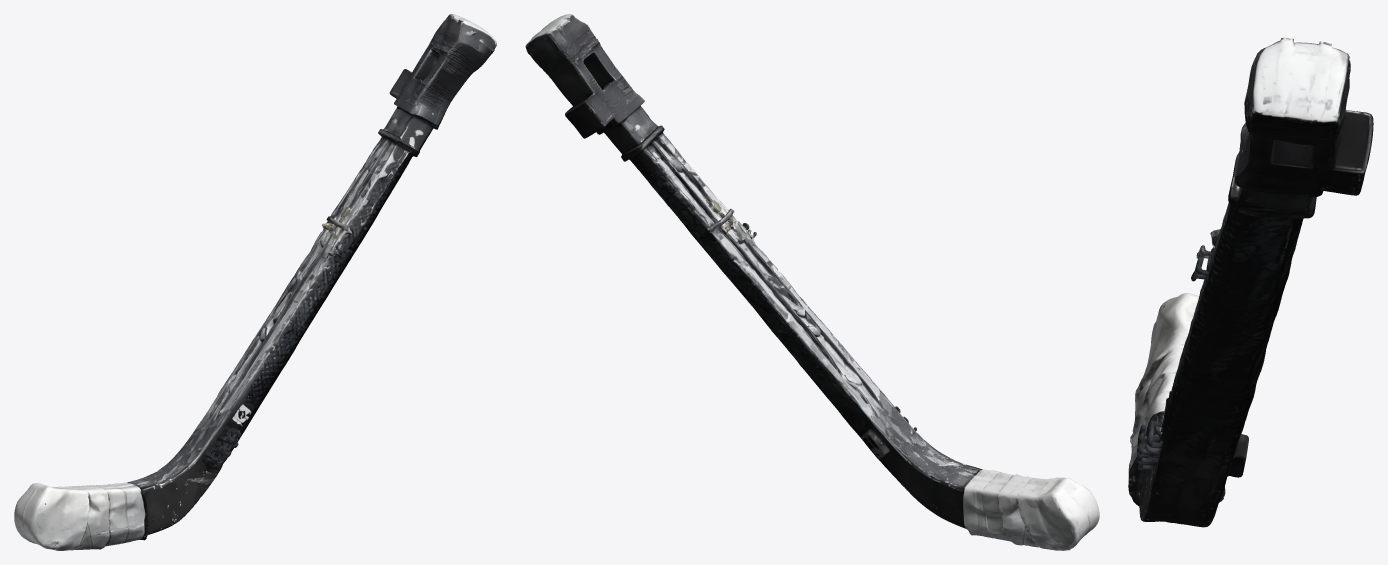
Rendered from rn_hockey.glb.
3 views of the same model, side by side, from view 1: azimuth 30°, elevation 25°; view 2: azimuth 150°, elevation 25°; view 3: azimuth 270°, elevation 25° (orthographic). The views are drawn at different scales.
Parts seen in each view (by area): view 1: tripo_node_46d84ef3-de5d-4c81-9829-8682e91112e7; view 2: tripo_node_46d84ef3-de5d-4c81-9829-8682e91112e7; view 3: tripo_node_46d84ef3-de5d-4c81-9829-8682e91112e7.
Boxes of the visible parts, x1=… form: tripo_node_46d84ef3-de5d-4c81-9829-8682e91112e7: x1=14, y1=14, x2=496, y2=550; tripo_node_46d84ef3-de5d-4c81-9829-8682e91112e7: x1=525, y1=14, x2=1099, y2=550; tripo_node_46d84ef3-de5d-4c81-9829-8682e91112e7: x1=1128, y1=37, x2=1373, y2=527.
Size of the model in its own units: 0.9801 by 0.7854 by 0.2112.
Materials: 1 (1 with a texture image).
